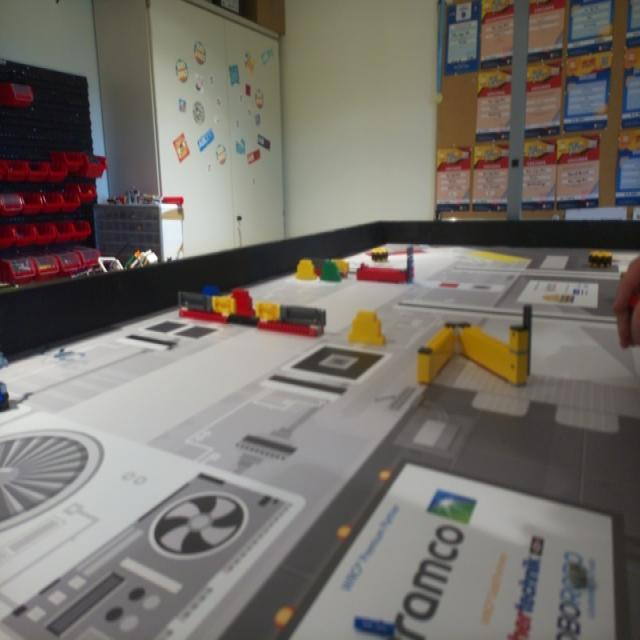blau: (200, 278, 224, 305)
gruen: (319, 258, 343, 286)
rot: (228, 285, 258, 317)
yellow: (348, 308, 388, 349), (292, 254, 319, 286)
